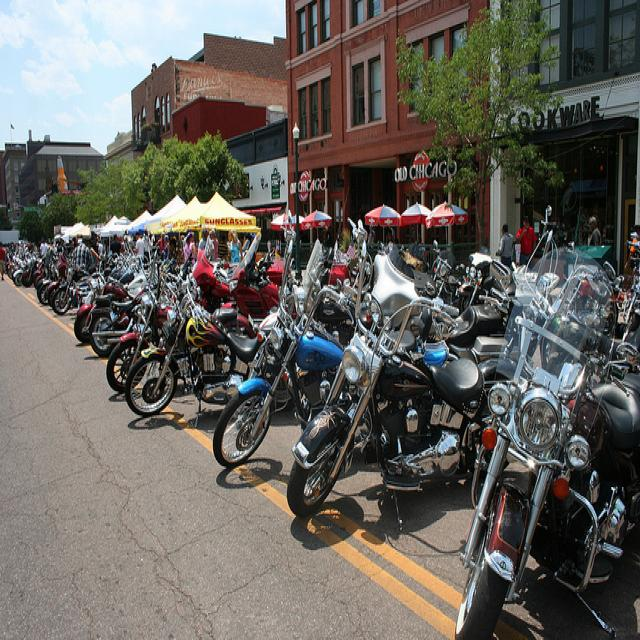motor: (452, 244, 640, 640), (280, 203, 500, 535), (214, 242, 357, 469), (124, 274, 260, 417), (409, 259, 513, 356), (186, 302, 261, 430), (104, 259, 171, 395), (73, 247, 157, 343), (87, 300, 141, 357), (51, 257, 92, 314), (436, 259, 481, 310), (38, 255, 67, 305), (14, 258, 38, 288), (32, 256, 47, 286)
